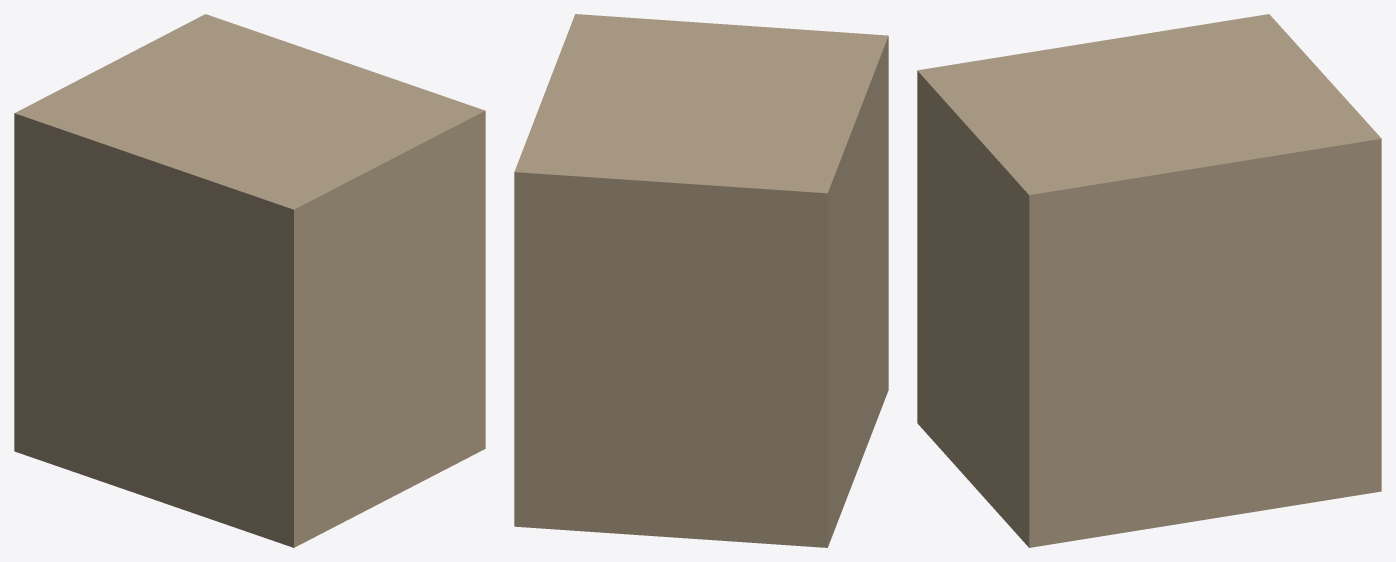
File: bld_107610483.dae
3 views of the same model, side by side, from view 1: azimuth 30°, elevation 25°; view 2: azimuth 150°, elevation 25°; view 3: azimuth 270°, elevation 25° (orthographic). The views are drawn at different scales.
Parts seen in each view (by area): view 1: bld_107610483; view 2: bld_107610483; view 3: bld_107610483.
Boxes of the visible parts, x1=… form: bld_107610483: x1=14, y1=14, x2=485, y2=547; bld_107610483: x1=514, y1=14, x2=888, y2=547; bld_107610483: x1=917, y1=14, x2=1381, y2=547.
Bounding box in the file's own units: 8.81 × 9.55 × 8.
